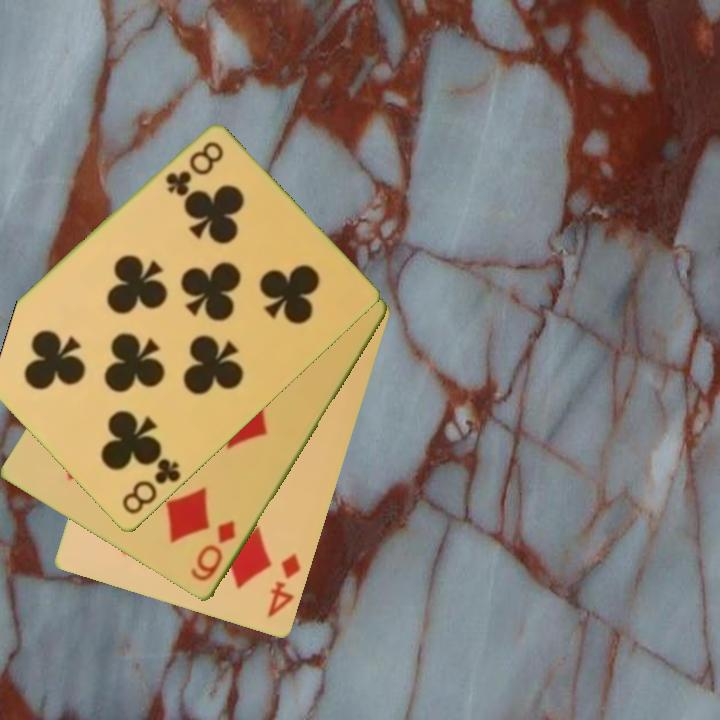4d: (264, 550, 304, 622)
6d: (187, 517, 239, 585)
8c: (118, 455, 184, 519), (162, 138, 227, 200)
